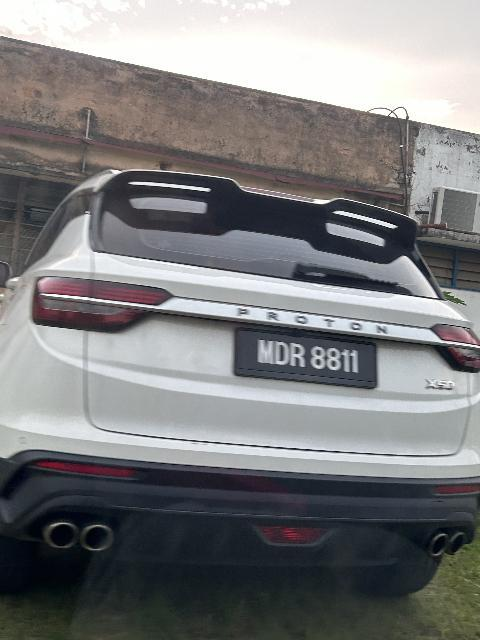License_Plate: (234, 327, 381, 393)
MDR8811: (234, 327, 381, 393)
car: (1, 158, 480, 578)
